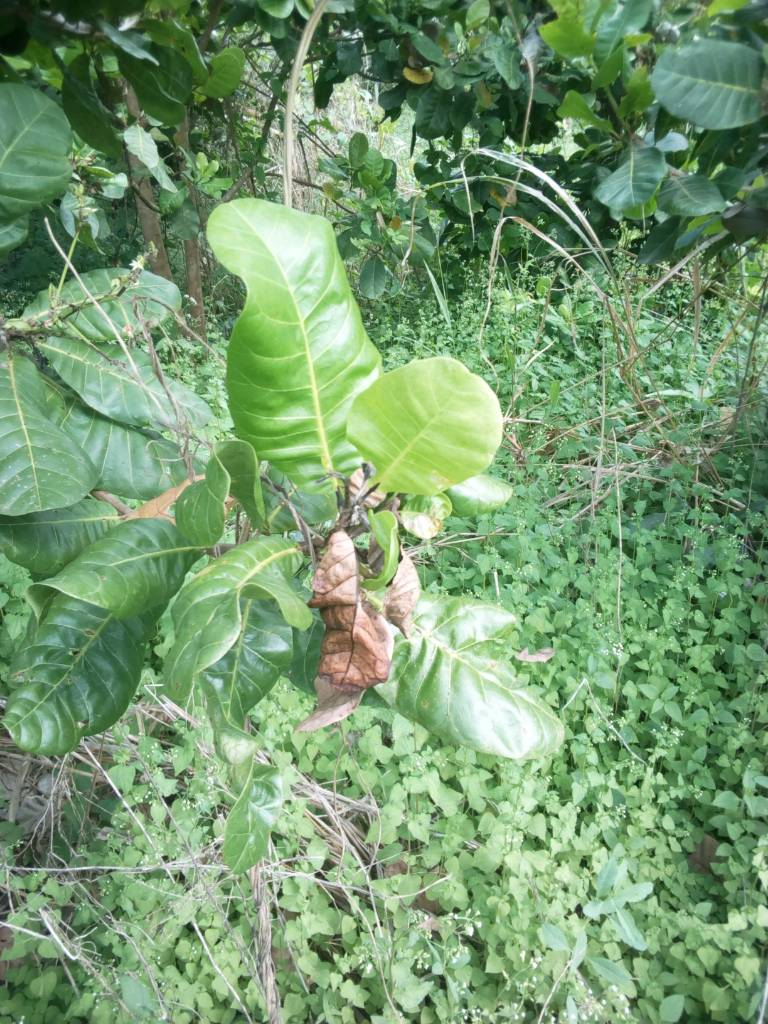Dessèchement des bourgeons: (309, 478, 387, 525)
